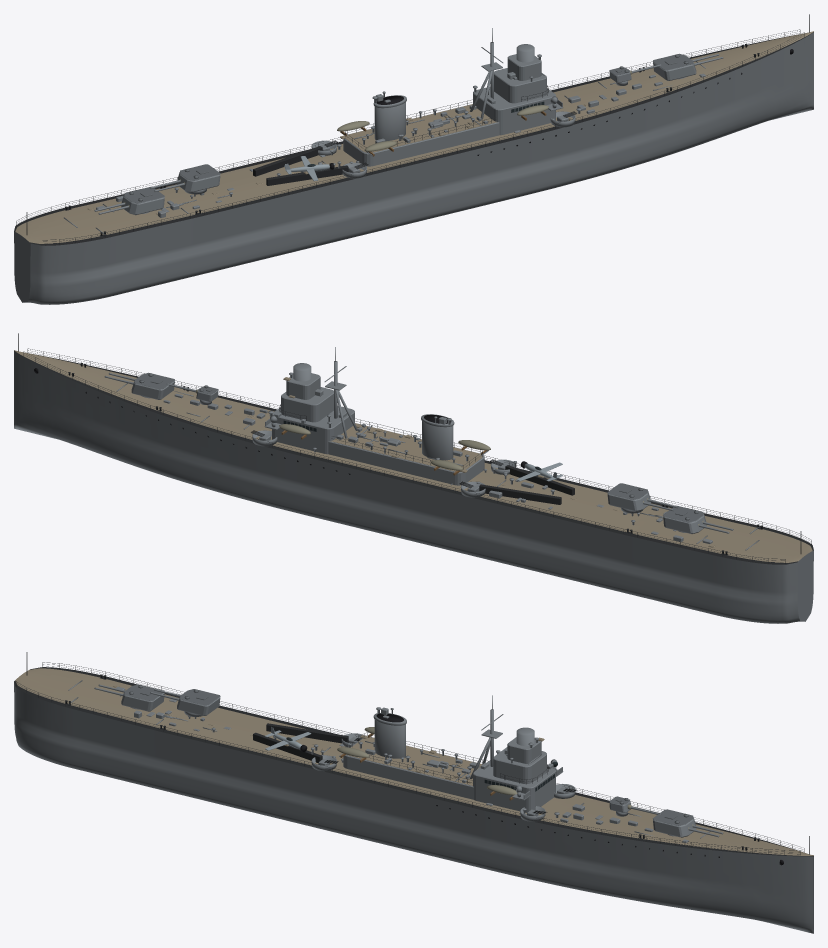
File: de_ruyter.glb
3 views of the same model, one above another, from view 1: azimuth 30°, elevation 25°; view 2: azimuth 150°, elevation 25°; view 3: azimuth 330°, elevation 25° (orthographic).
Visible parts, largest first — view 1: de_ruyter, T_2_malla, T_3_malla, T_0_malla; view 2: de_ruyter, T_2_malla, T_3_malla, T_0_malla; view 3: de_ruyter, T_0_malla, T_2_malla, T_3_malla.
Part boxes in pixels (box(x1,y1,x2,y2)): de_ruyter: box(14, 14, 813, 304); T_2_malla: box(177, 164, 220, 192); T_3_malla: box(121, 187, 164, 215); T_0_malla: box(652, 53, 696, 80); de_ruyter: box(14, 333, 813, 623); T_2_malla: box(607, 483, 650, 511); T_3_malla: box(663, 506, 706, 533); T_0_malla: box(131, 372, 175, 399); de_ruyter: box(14, 652, 813, 933); T_0_malla: box(652, 809, 696, 837); T_2_malla: box(177, 689, 220, 715); T_3_malla: box(121, 684, 164, 711).
Size of the model in its own units: 171 by 33 by 17.37.
